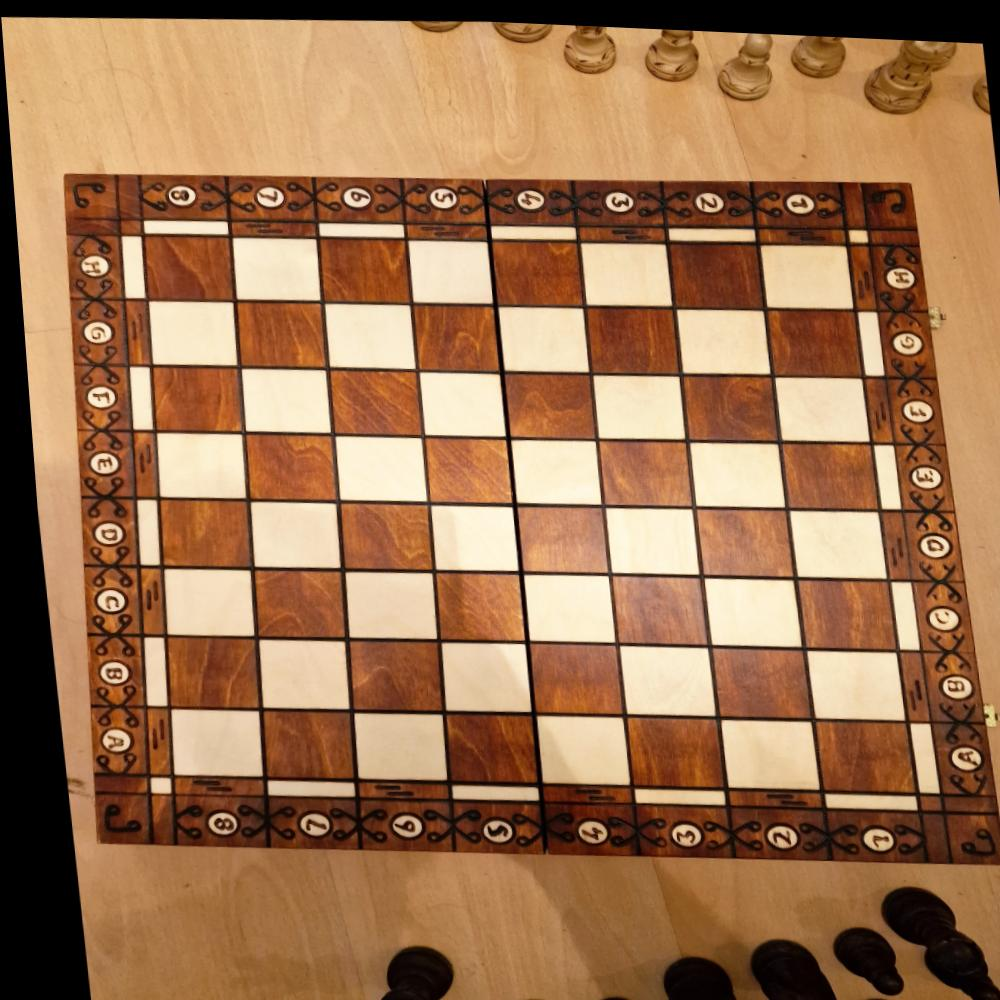A: (925, 713, 984, 788), (83, 703, 139, 778)
B: (913, 642, 978, 715), (81, 636, 134, 707)
C: (907, 573, 968, 645), (76, 566, 132, 634)
D: (899, 504, 960, 575), (73, 498, 127, 565)
E: (893, 437, 948, 506), (72, 432, 126, 497)
F: (885, 371, 941, 441), (73, 369, 124, 429)
G: (875, 303, 932, 371), (68, 303, 122, 367)
H: (869, 238, 926, 303), (64, 236, 119, 298)
chessboard-corners: (61, 172, 994, 854)
chessfield: (795, 639, 899, 720), (610, 635, 712, 717), (806, 711, 910, 791), (709, 708, 815, 786), (518, 633, 616, 715), (696, 569, 801, 645), (703, 640, 805, 717), (790, 570, 890, 647), (433, 709, 534, 785), (152, 635, 254, 710), (614, 710, 714, 786), (604, 569, 703, 645), (589, 432, 692, 504), (244, 566, 339, 643), (248, 635, 343, 712), (341, 635, 436, 712), (762, 297, 862, 370), (586, 365, 686, 438), (524, 709, 624, 782), (336, 566, 432, 642), (344, 705, 440, 781), (329, 498, 427, 572), (432, 634, 527, 710), (669, 295, 765, 370), (147, 496, 247, 568), (251, 706, 348, 780), (512, 565, 606, 641), (420, 496, 515, 570), (232, 363, 331, 434), (425, 568, 519, 642), (237, 429, 336, 499), (683, 431, 782, 501), (775, 433, 874, 503), (223, 232, 316, 306), (318, 296, 411, 370), (599, 500, 692, 574), (154, 566, 247, 640), (675, 367, 776, 435), (408, 366, 506, 436), (158, 707, 253, 779), (496, 364, 595, 433), (769, 367, 868, 436), (507, 499, 599, 572), (243, 498, 335, 571), (784, 502, 877, 573), (315, 233, 412, 301), (327, 431, 424, 499), (484, 233, 582, 300), (665, 236, 765, 301), (690, 502, 787, 569), (494, 300, 584, 372), (229, 298, 322, 367), (418, 431, 512, 499), (326, 364, 416, 435), (503, 434, 598, 501), (582, 300, 674, 369), (759, 234, 850, 303), (151, 429, 240, 499), (409, 299, 497, 369), (576, 235, 668, 301), (406, 236, 493, 305), (148, 366, 237, 433), (145, 298, 230, 367), (139, 236, 229, 301)
innerChessboard: (139, 236, 907, 788)
